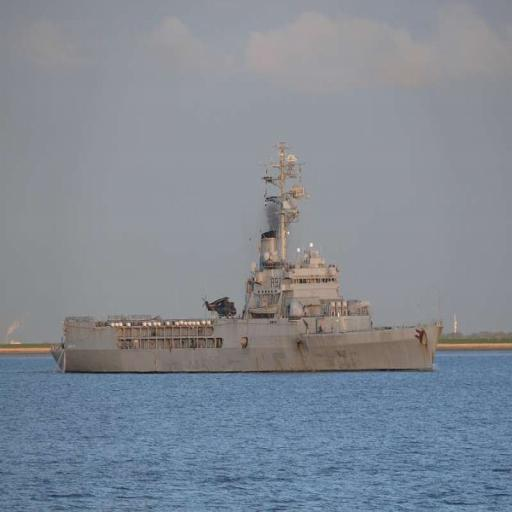Portanaves: (50, 141, 446, 374)
